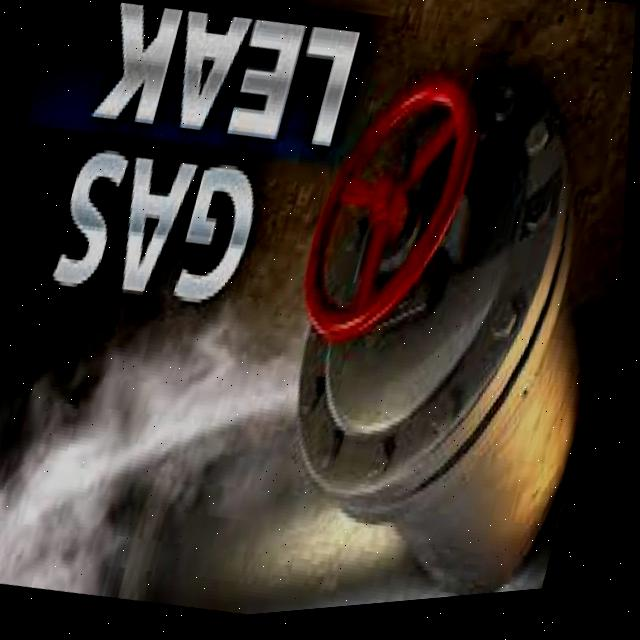corrosion: (107, 254, 367, 510)
